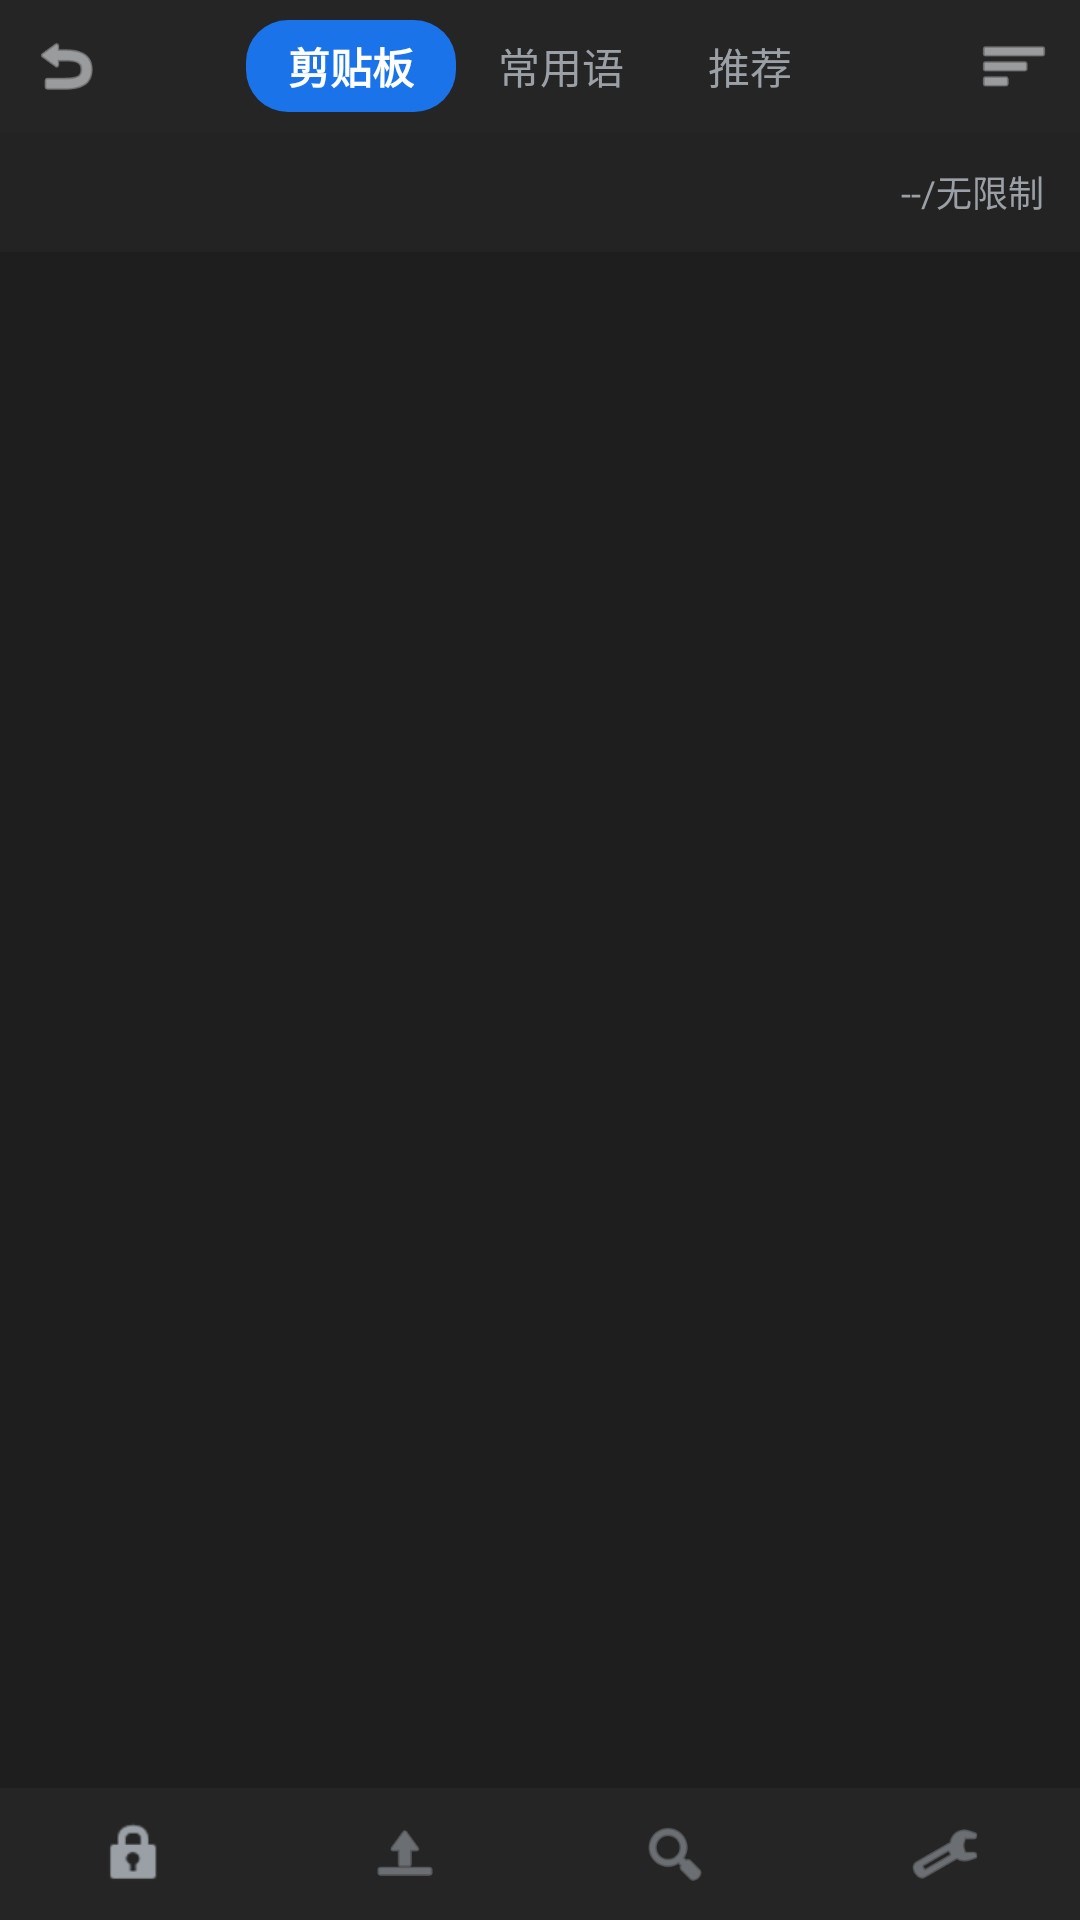

Locate icon controls on the screen. Image size 1080 × 1920, boxes as (x1, y1, x2, y2).
搜索: (649, 1828, 701, 1881)
菜单: (983, 46, 1045, 87)
设置: (913, 1829, 977, 1879)
返回: (41, 43, 93, 90)
锁定: (110, 1824, 157, 1879)
